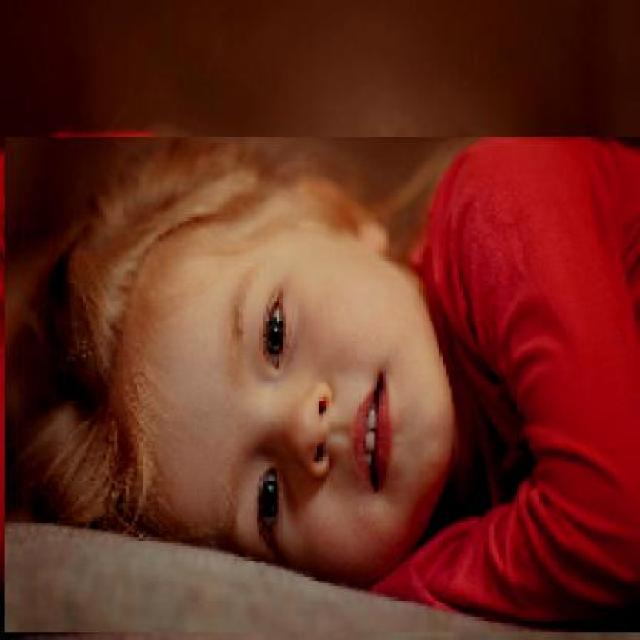child: (3, 137, 640, 634)
